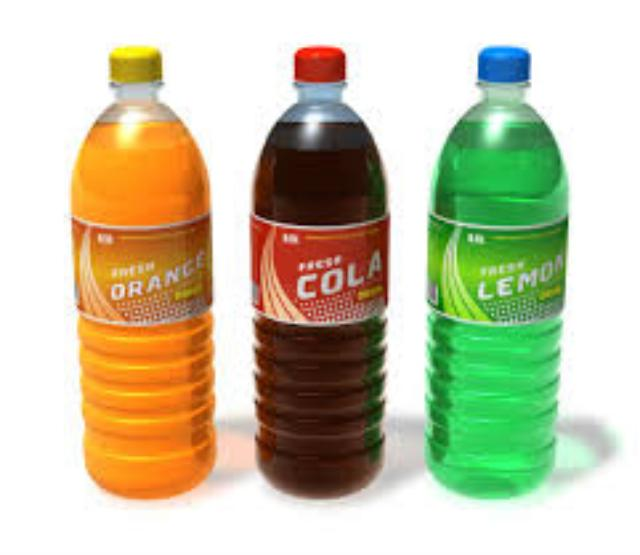plastic: (422, 45, 563, 491), (69, 45, 210, 491), (247, 42, 382, 491)
